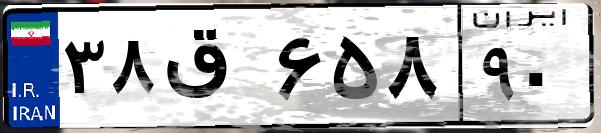0: (525, 38, 570, 115)
3: (57, 26, 110, 100)
5: (330, 28, 385, 110)
6: (270, 28, 330, 110)
8: (385, 28, 445, 110), (110, 28, 158, 98)
9: (475, 38, 525, 113)
ق: (158, 20, 270, 120)
